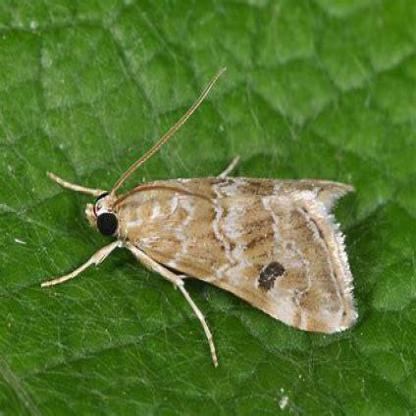Hellula undalis: (32, 58, 371, 376)
